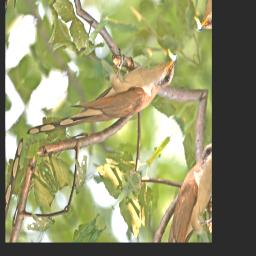Cuckoo: (25, 0, 186, 210)
